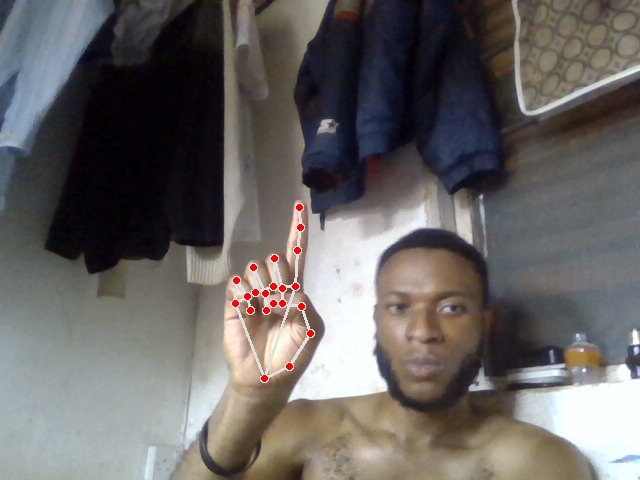number1: (222, 200, 326, 396)
